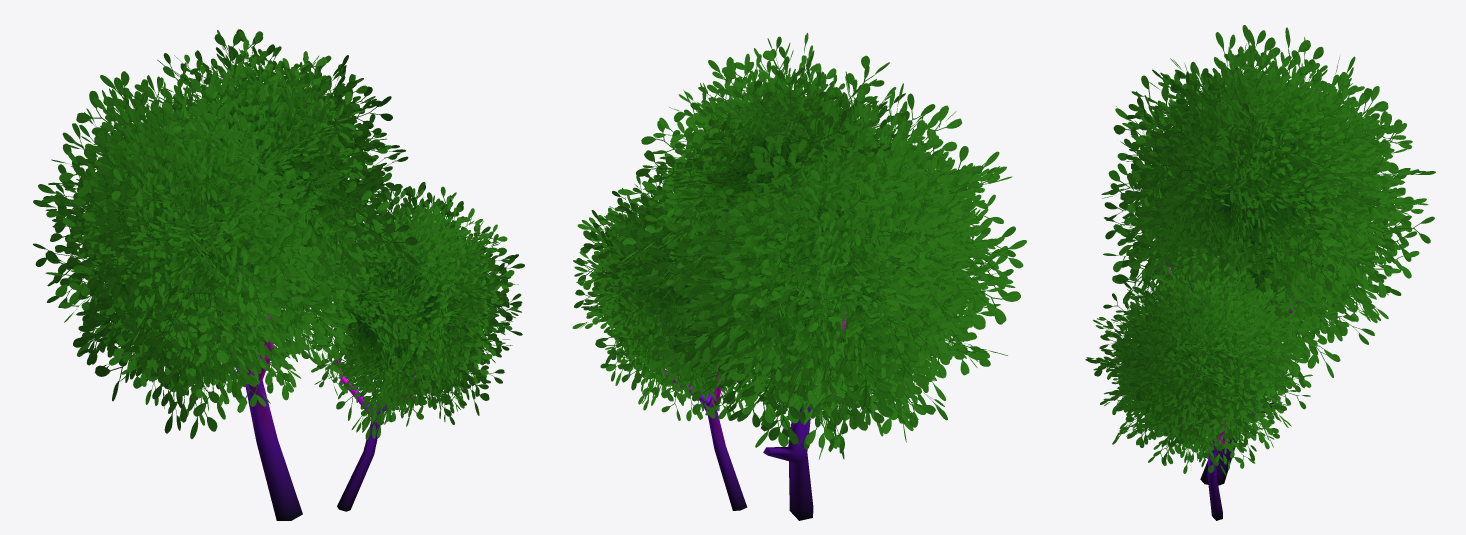
File: PT_Buxus_01.fbx
3 renders of one model, left to right at view 1: azimuth 30°, elevation 25°; view 2: azimuth 150°, elevation 25°; view 3: azimuth 270°, elevation 25°, orthographic. The views are drawn at different scales.
Visible parts, largest first — view 1: PT_Buxus_01_LOD0; view 2: PT_Buxus_01_LOD0; view 3: PT_Buxus_01_LOD0.
Boxes of the visible parts, x1,y1,x2,y2 form: PT_Buxus_01_LOD0: [33, 29, 524, 520]; PT_Buxus_01_LOD0: [572, 33, 1026, 520]; PT_Buxus_01_LOD0: [1085, 25, 1435, 520].
Size of what is drawn, in the model's own units: 239 by 248 by 193.
